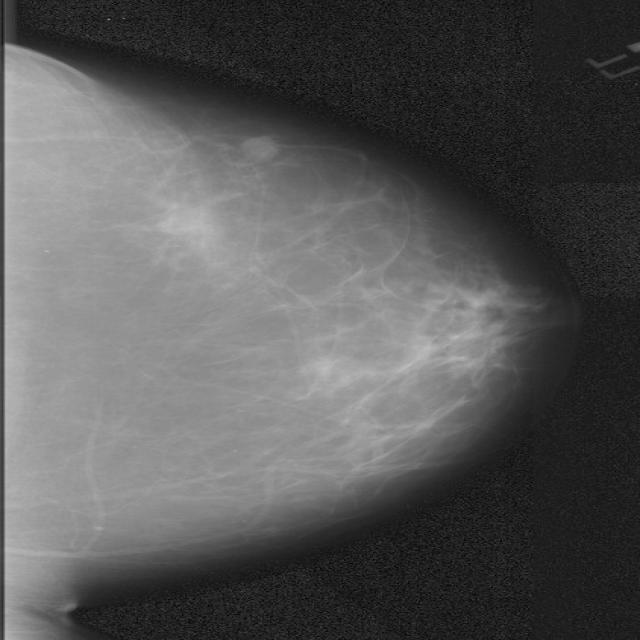tumour: (241, 136, 279, 162)
